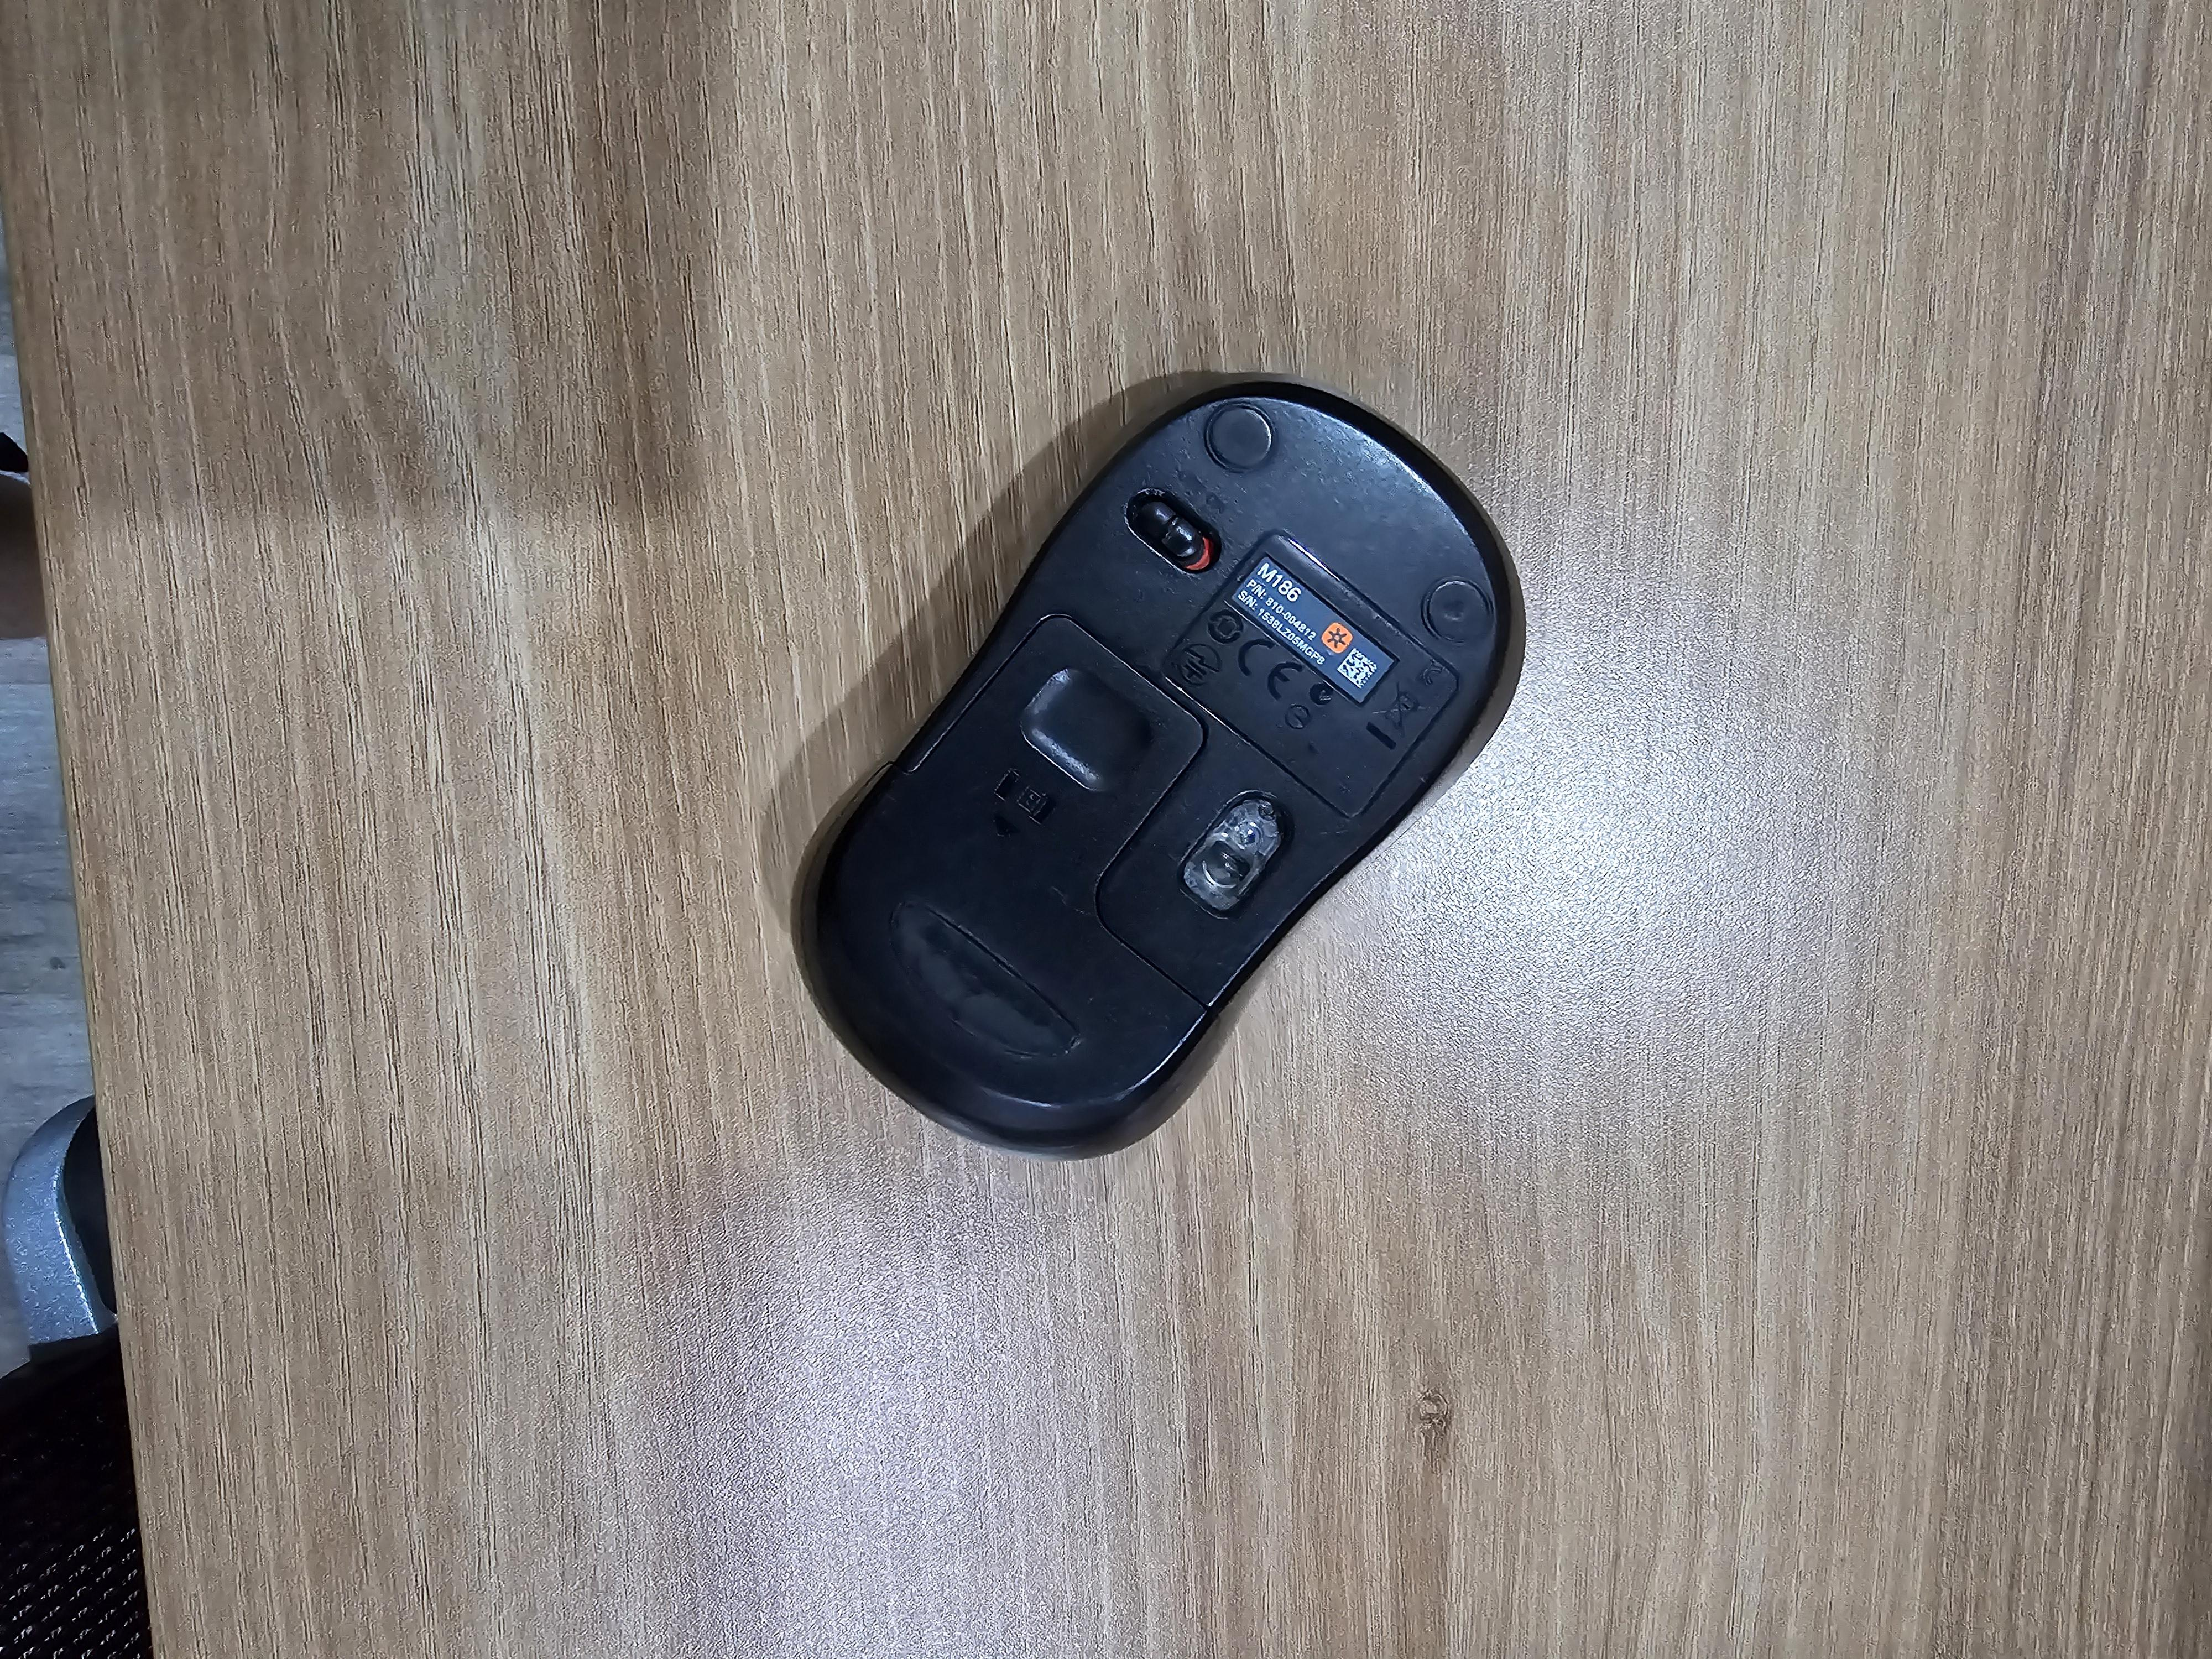mouse: (805, 371, 1527, 1159)
